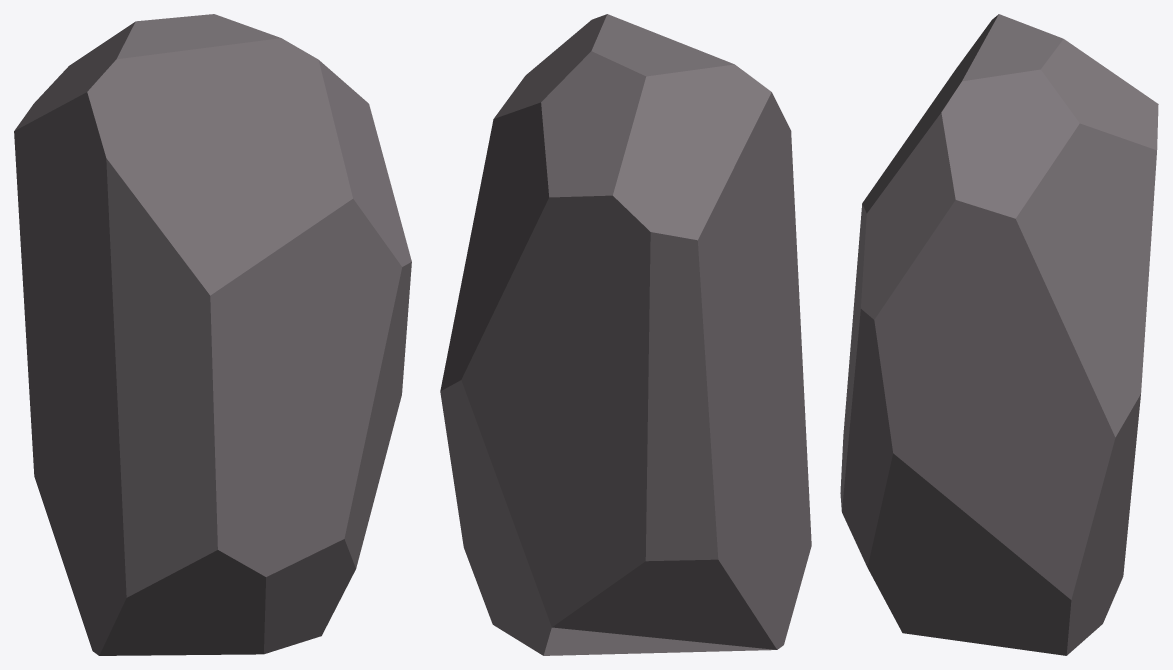
Rendered from Rock_Round_m_15.fbx.
The picture shows the model from 3 angles, left to right: view 1: azimuth 30°, elevation 25°; view 2: azimuth 150°, elevation 25°; view 3: azimuth 270°, elevation 25°; orthographic projection. The views are drawn at different scales.
Parts seen in each view (by area): view 1: Rock_Round_m_15; view 2: Rock_Round_m_15; view 3: Rock_Round_m_15.
Boxes of the visible parts, x1,y1,x2,y2 form: Rock_Round_m_15: (14, 14, 411, 655); Rock_Round_m_15: (440, 14, 811, 655); Rock_Round_m_15: (840, 14, 1158, 655).
Size of the model in its own units: 80 by 168 by 88.42.
